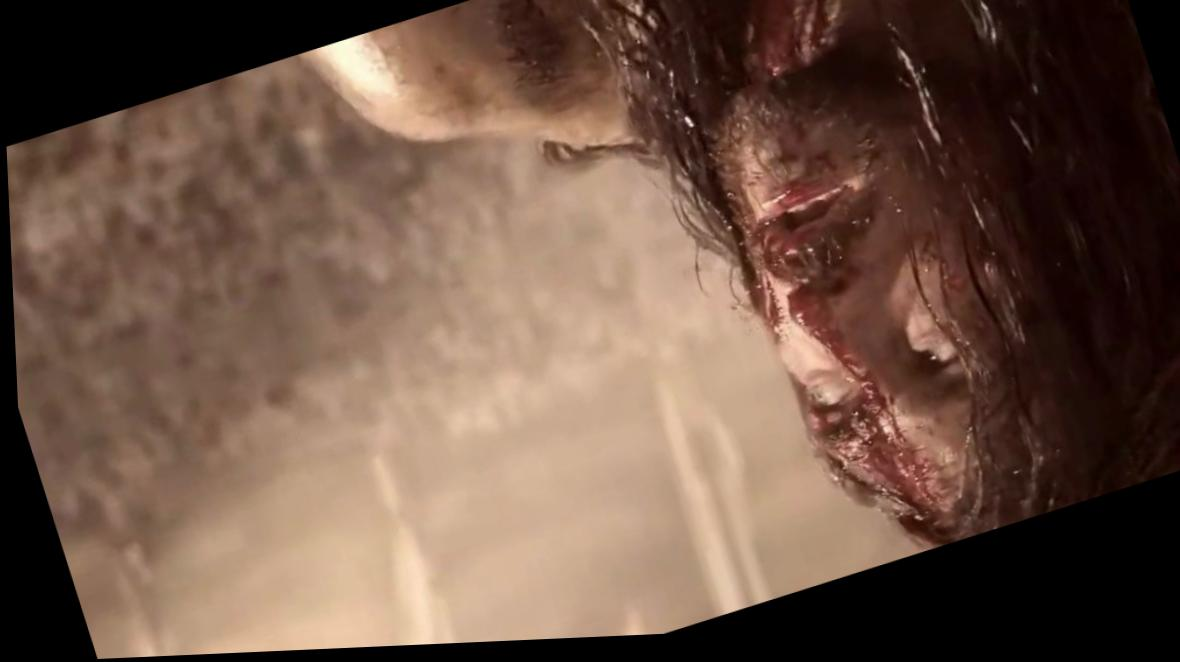Fire: (739, 218, 950, 517)
